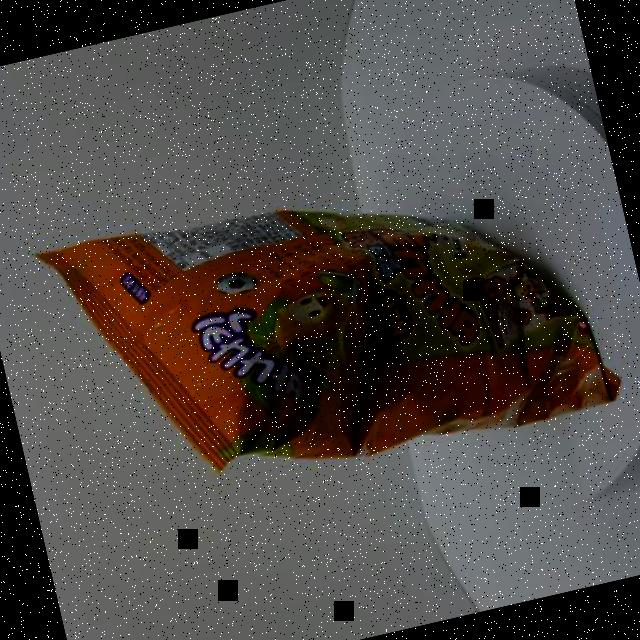snack_bag: (14, 96, 631, 540)
